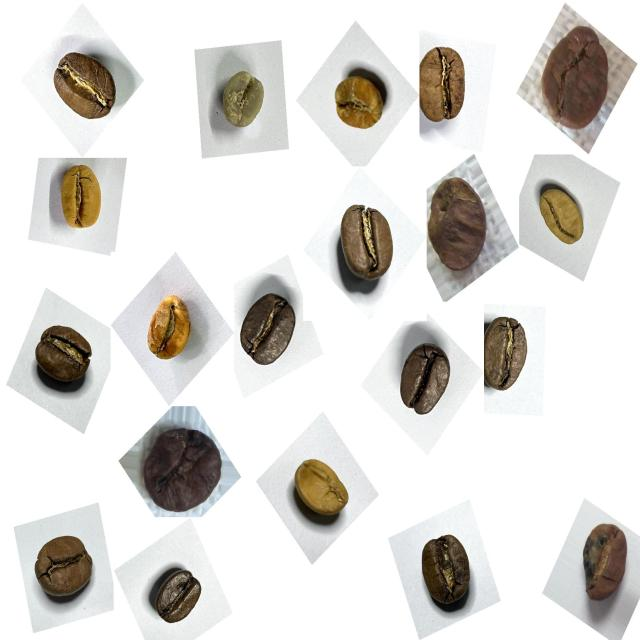bad: (137, 418, 234, 528), (535, 14, 621, 138), (421, 168, 494, 283), (572, 511, 640, 613)
dark: (389, 331, 464, 427), (144, 558, 208, 636)
green: (209, 62, 278, 145)
light: (286, 450, 361, 539), (324, 58, 394, 143), (140, 285, 205, 371), (49, 160, 115, 244), (531, 175, 596, 258)
medium: (322, 193, 407, 298), (43, 42, 127, 134), (230, 282, 307, 380), (26, 523, 104, 615), (408, 525, 482, 620), (26, 312, 104, 402), (414, 36, 483, 136), (472, 308, 542, 403)
